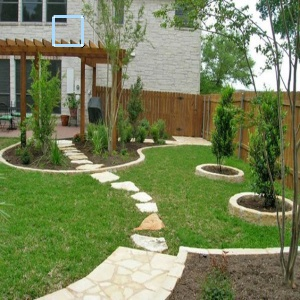square: (49, 12, 87, 50)
